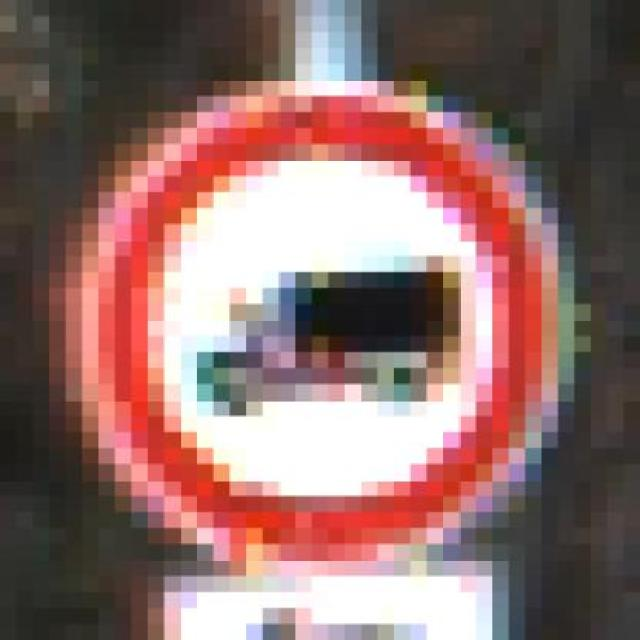Truck traffic is prohibited: (33, 64, 590, 576)
